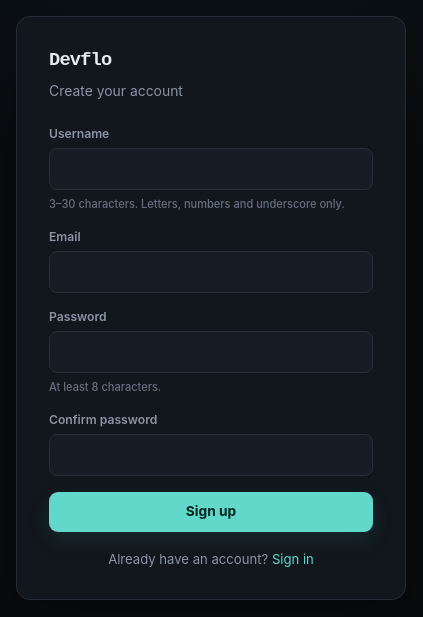
SignupPage verification handoff polling › starts bounded polling after a fresh registration succeeds
Type "new_user" into the field labelled "Username" at (211, 169), box 49,148 -> 373,190
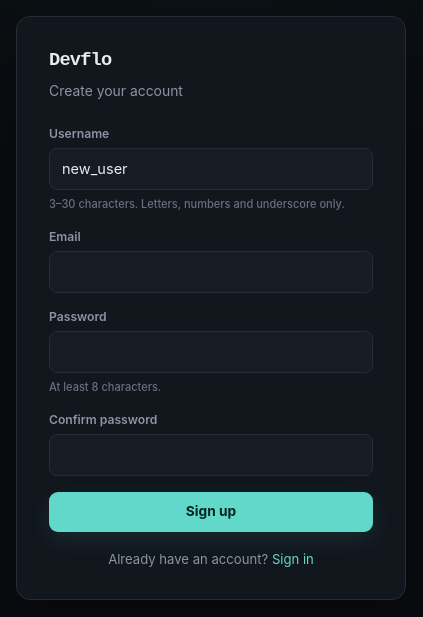
Type "new@example.com" into the field labelled "Email" at (211, 272), box 49,251 -> 373,293
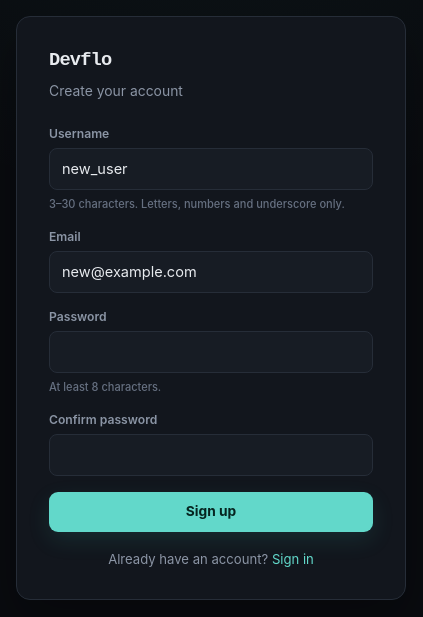
Type "new-password" into the password field labelled "Password At least 8 characters." at (211, 352), box 49,331 -> 373,373
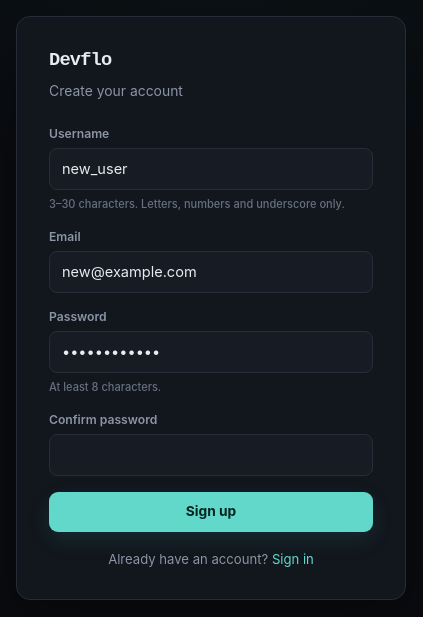
Type "new-password" into the password field labelled "Confirm password" at (211, 455), box 49,434 -> 373,476
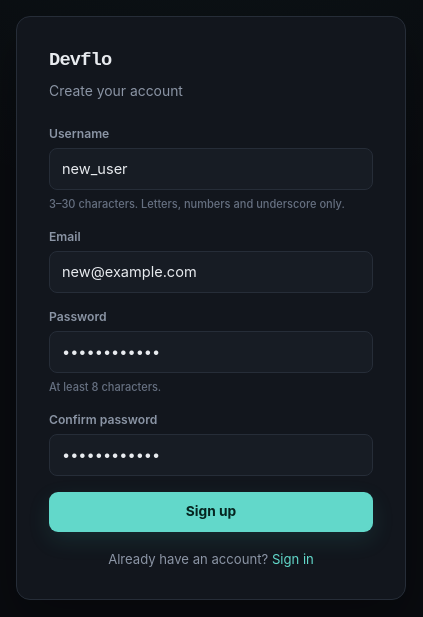
Click the button "Sign up" at (211, 512), box 49,492 -> 373,532
Wait 2000 ms
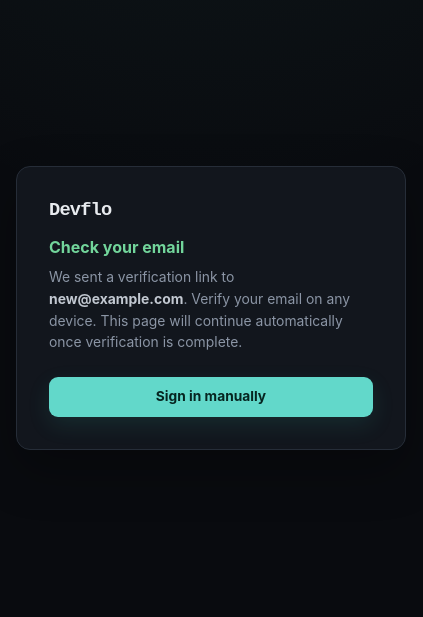
expect the text "new@example.com" is shown: met, box 49,291 -> 183,307
